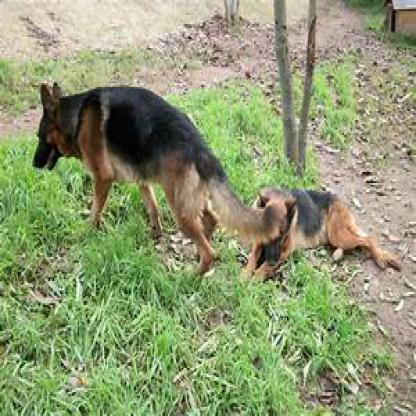dog: (30, 78, 286, 279), (241, 181, 405, 285)
